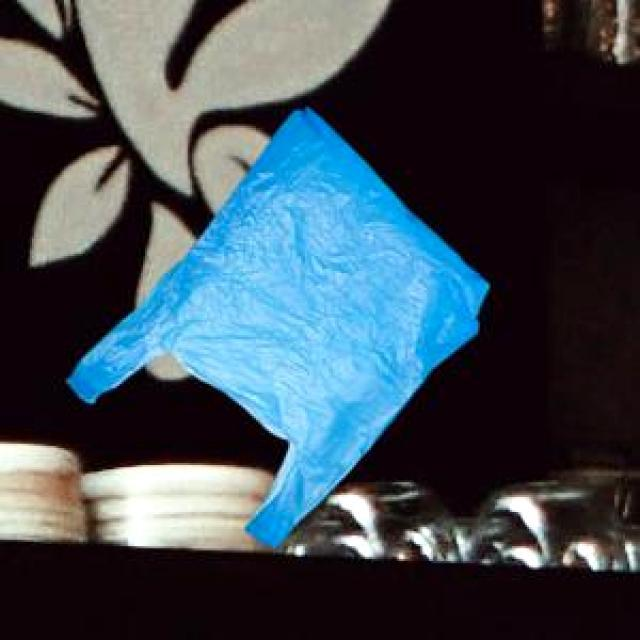Plastic_Bag: (62, 105, 486, 546)
